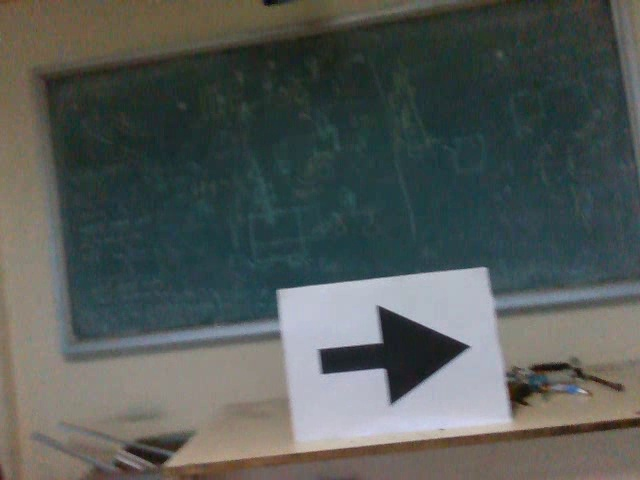Right: (310, 302, 474, 414)
